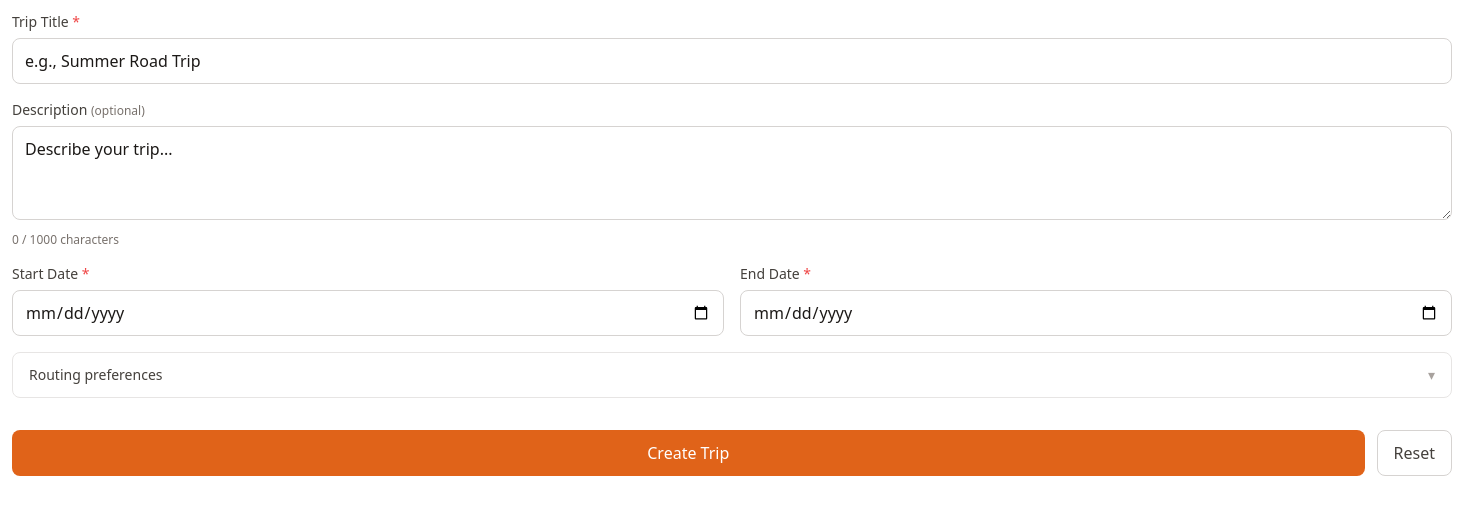
Test: TripForm Component › Client-side Validation › should show error when dates are missing
Type "Test Trip" into the field labelled "Trip Title *" at (732, 61), box [12, 38, 1452, 84]
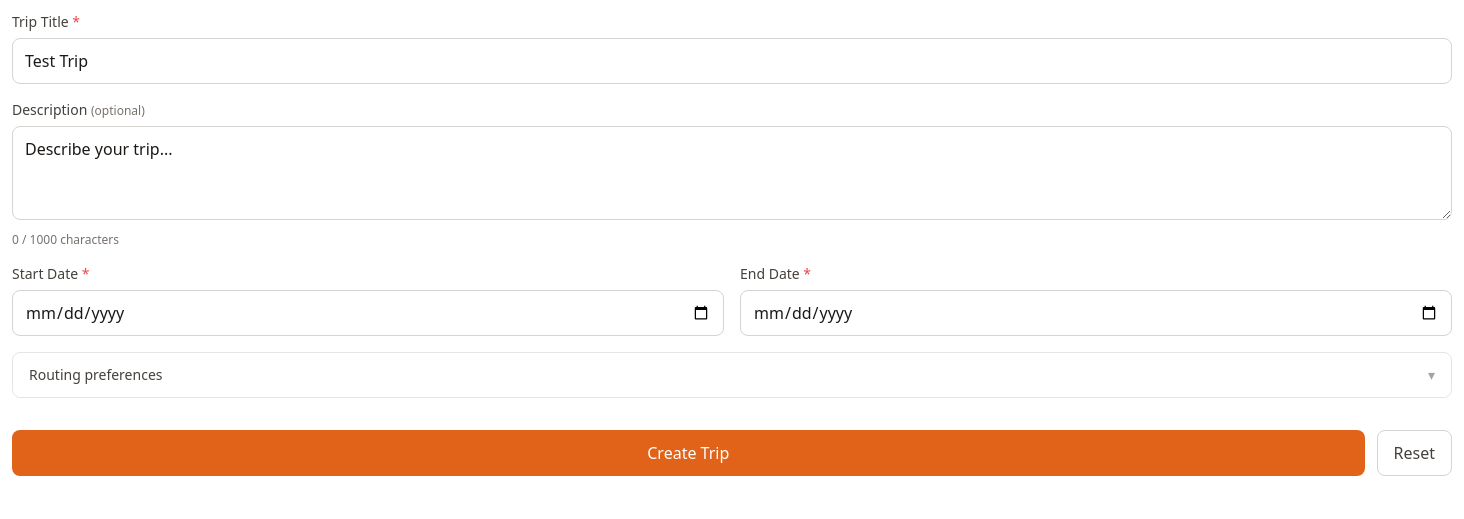
Click the button "Create Trip" at (688, 453), box [12, 430, 1364, 476]
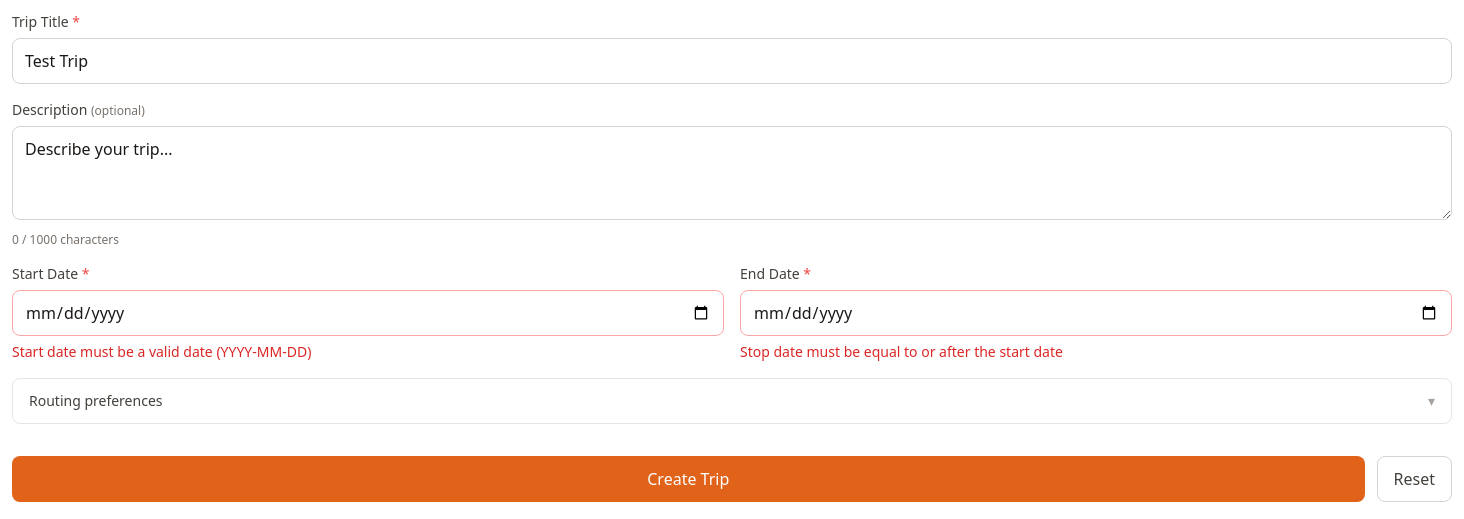
Result: the text "Start date must be a valid date (YYYY-MM-DD)" is shown at [12, 342, 311, 361]
